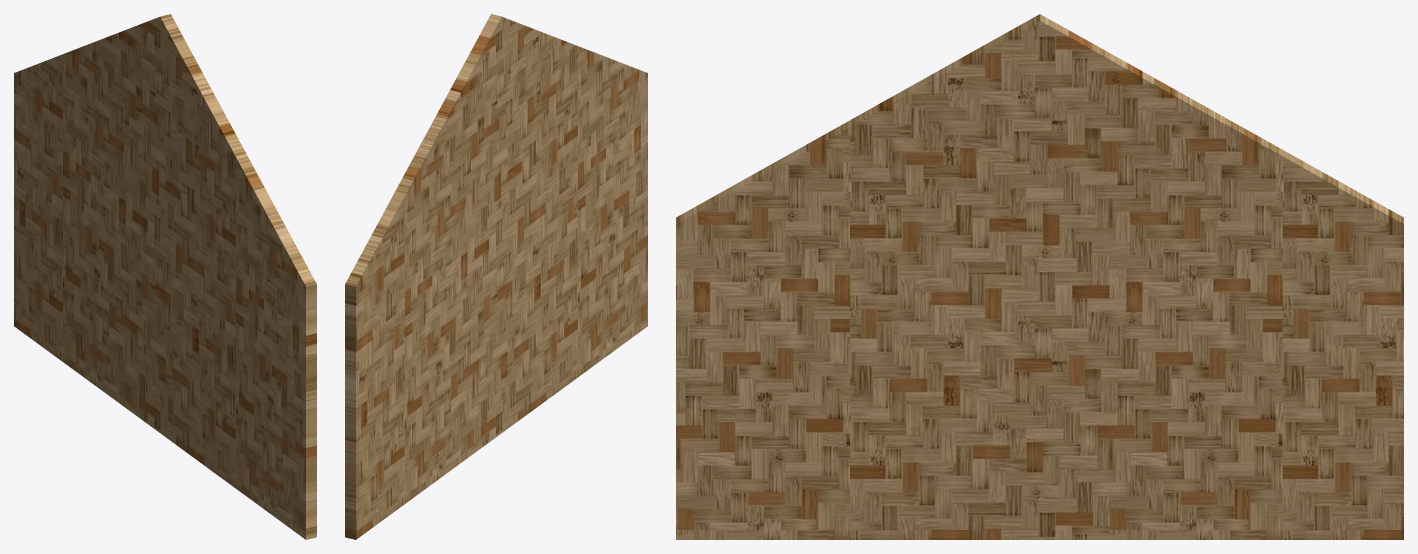
The model's file is KananR1.fbx.
3 views of the same model, side by side, from view 1: azimuth 30°, elevation 25°; view 2: azimuth 150°, elevation 25°; view 3: azimuth 270°, elevation 25° (orthographic). The views are drawn at different scales.
Parts seen in each view (by area): view 1: R1_T-Kanan; view 2: R1_T-Kanan; view 3: R1_T-Kanan.
Boxes of the visible parts, x1,y1,x2,y2 form: R1_T-Kanan: (14, 14, 316, 539); R1_T-Kanan: (345, 14, 647, 539); R1_T-Kanan: (676, 14, 1403, 539).
Bounding box in the file's own units: 0.3 × 11.04 × 14.02.
1 material, 1 textured.
